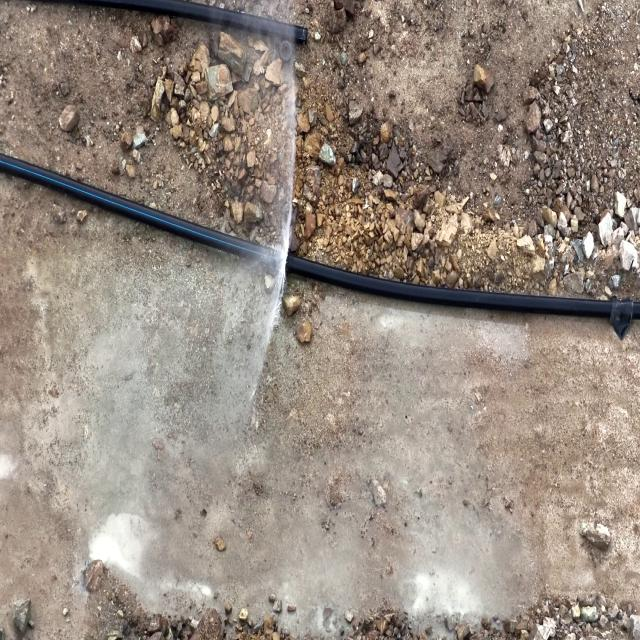leak: (248, 20, 300, 422)
